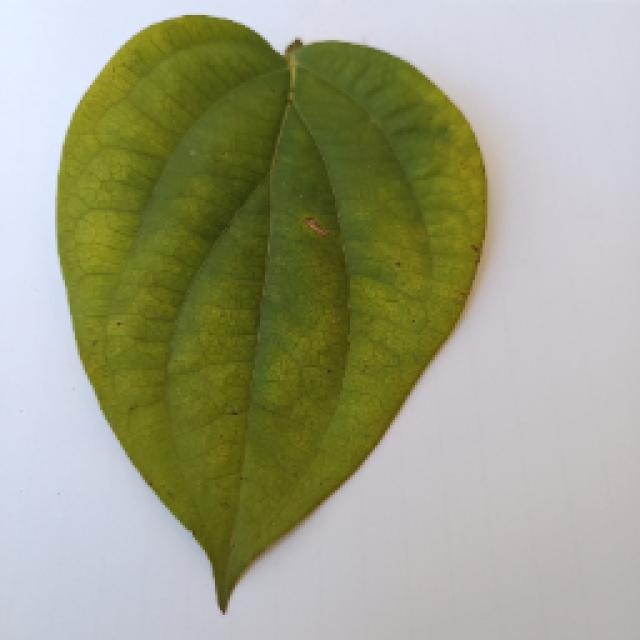slow-decline: (58, 15, 478, 610)
